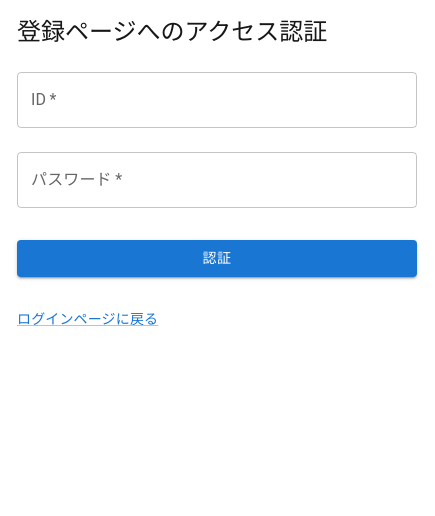
Test: RegisterPage › 認証画面 › 正しい認証情報で認証が成功する
This screenshot has width=435, height=516.
In the field labelled "ID *": [217, 100] box [17,72,417,128], type "raiki"
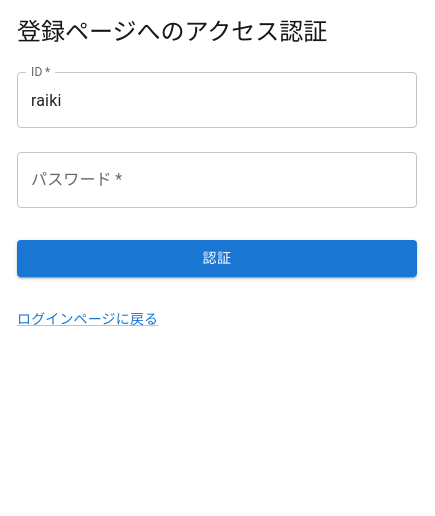
In the password field labelled "パスワード *": [217, 180] box [17,152,417,208], type "test"
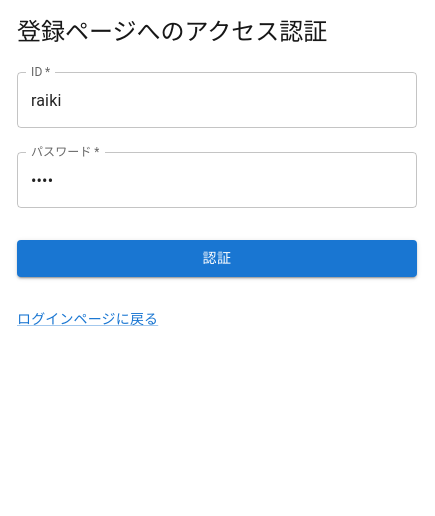
Click the button "認証": [217, 259] box [17,240,417,277]
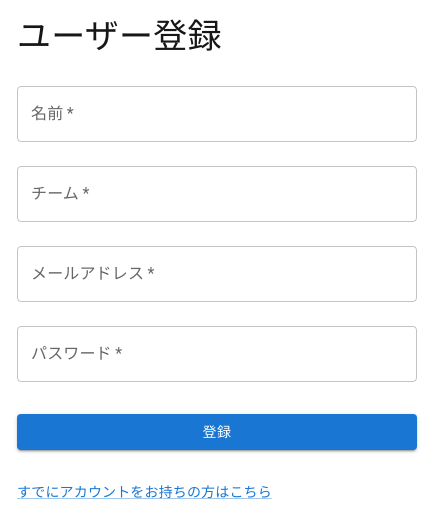
Expected: the heading "ユーザー登録" is shown, [17,16,222,56]
